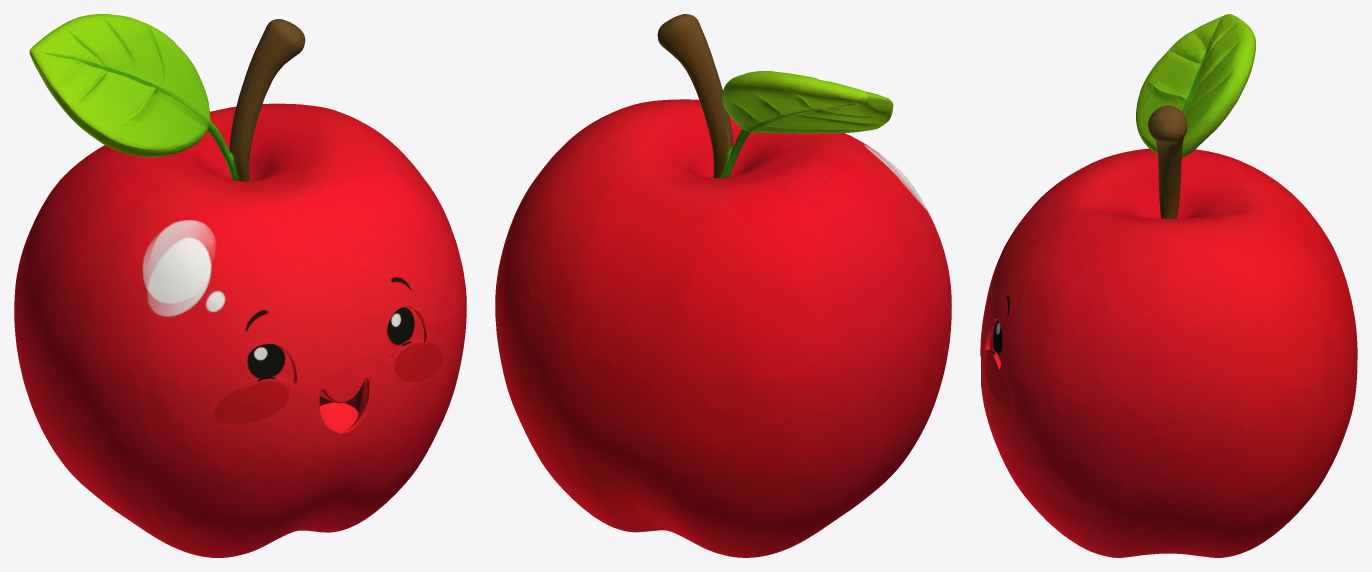
Rendered from apple-01a181.glb.
The picture shows the model from 3 angles, left to right: view 1: azimuth 30°, elevation 25°; view 2: azimuth 150°, elevation 25°; view 3: azimuth 270°, elevation 25°; orthographic projection. The views are drawn at different scales.
Bounding box in the file's own units: 1.58 × 1.9 × 1.47.
Materials: 1 (1 with a texture image).
